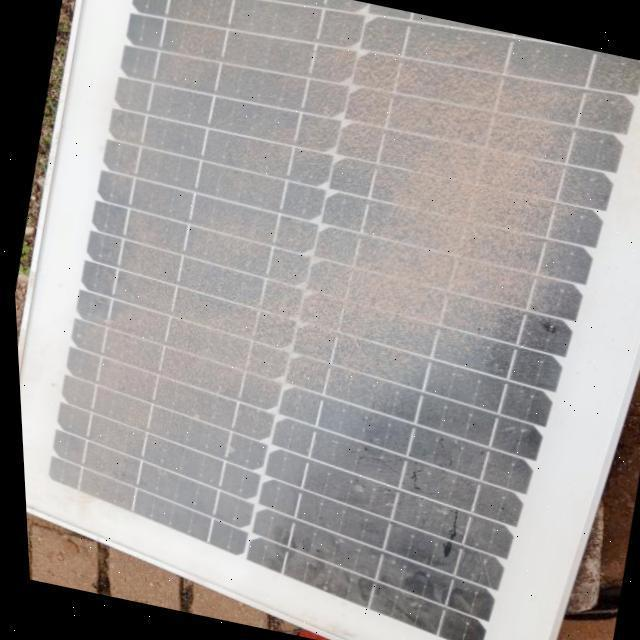Surface Contaminant: (20, 0, 606, 605)
